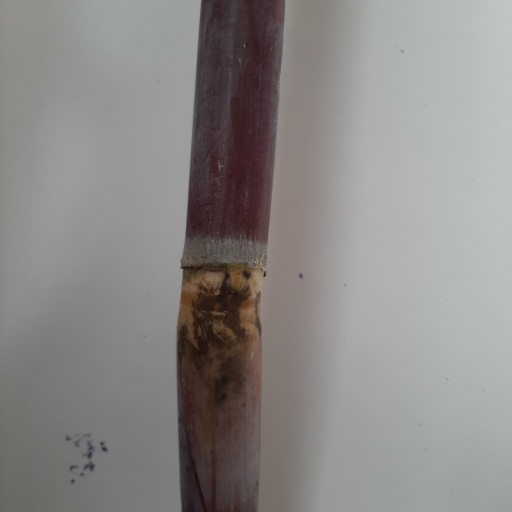Bud: (225, 270, 251, 295)
